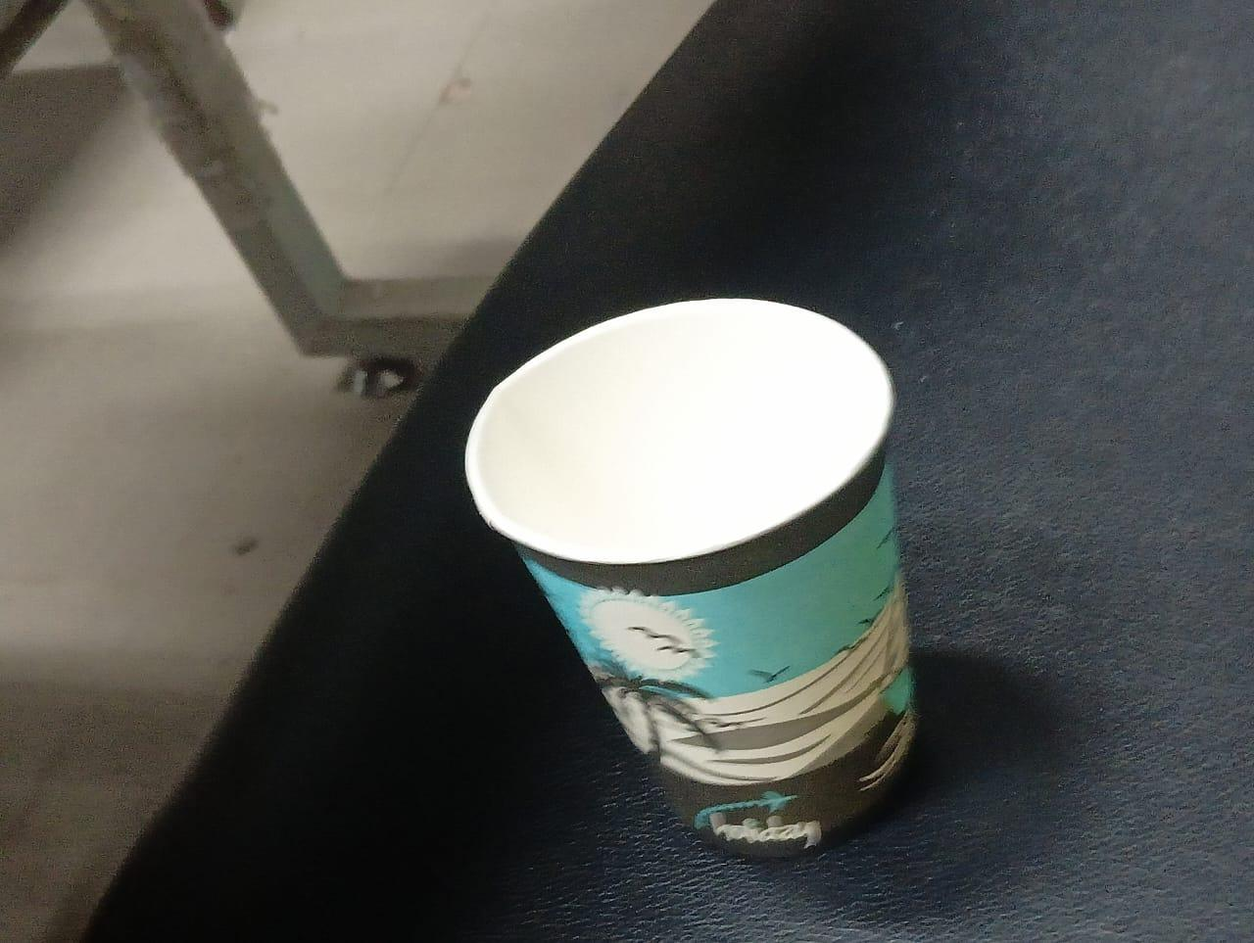cup: (466, 300, 914, 855)
